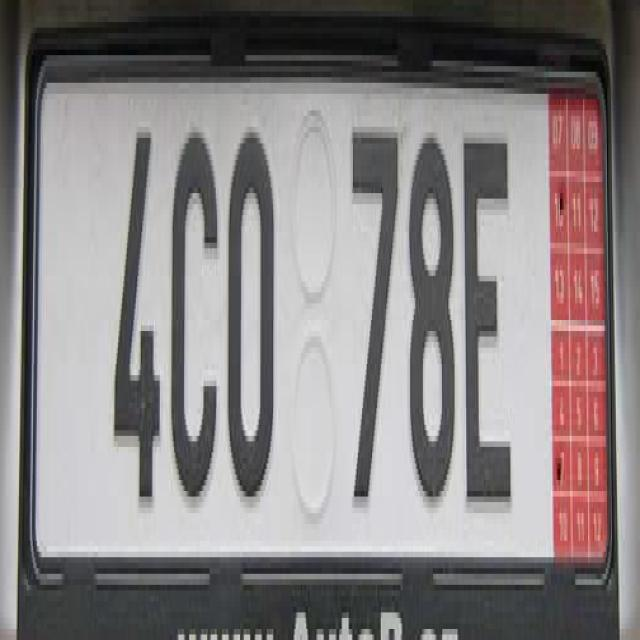Autre: (33, 67, 615, 581)
